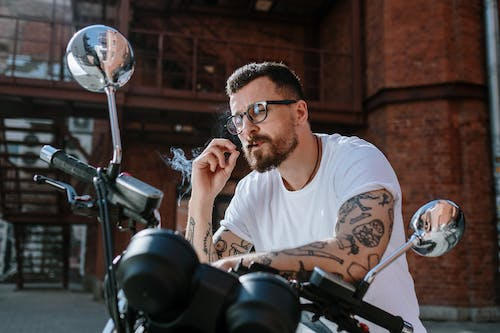cigarette: (244, 142, 259, 149)
